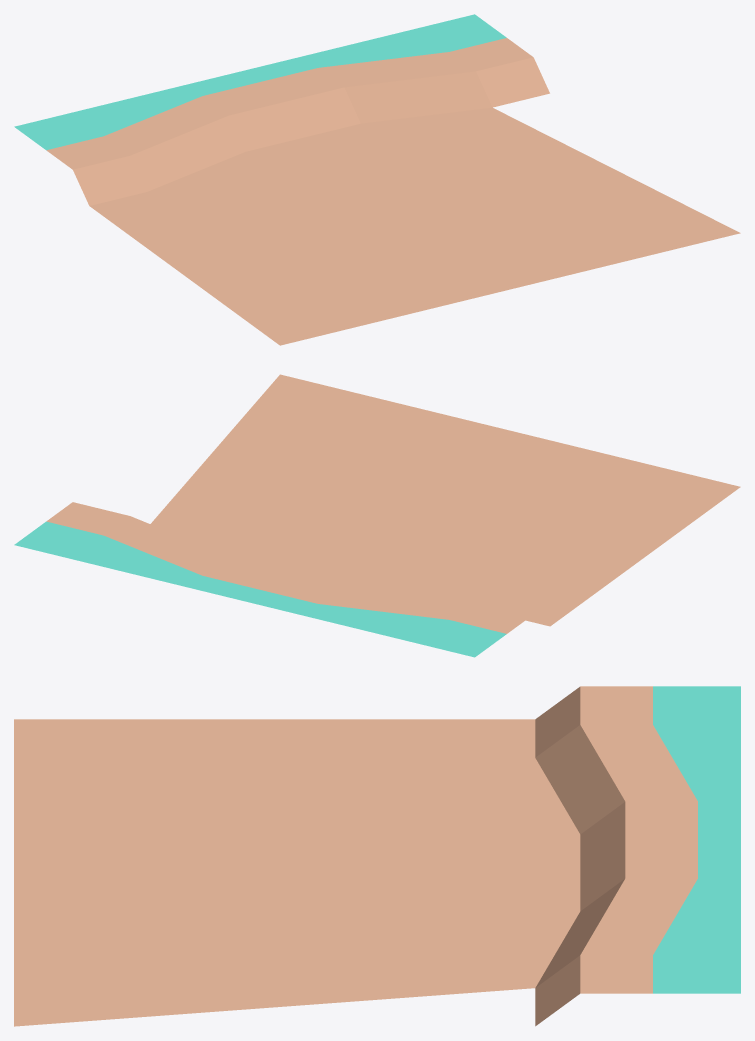
File: ground_pathSide.glb
The picture shows the model from 3 angles, top to bottom: view 1: azimuth 30°, elevation 25°; view 2: azimuth 150°, elevation 25°; view 3: azimuth 270°, elevation 25°; orthographic projection. The views are drawn at different scales.
Visible parts, largest first — view 1: ground_pathSide; view 2: ground_pathSide; view 3: ground_pathSide.
Boxes of the visible parts, box(x1,y1,x2,y2) form: ground_pathSide: box(14, 14, 740, 345); ground_pathSide: box(14, 374, 740, 657); ground_pathSide: box(14, 686, 740, 1026).
Bounding box in the file's own units: 1 × 0.0501 × 1.
